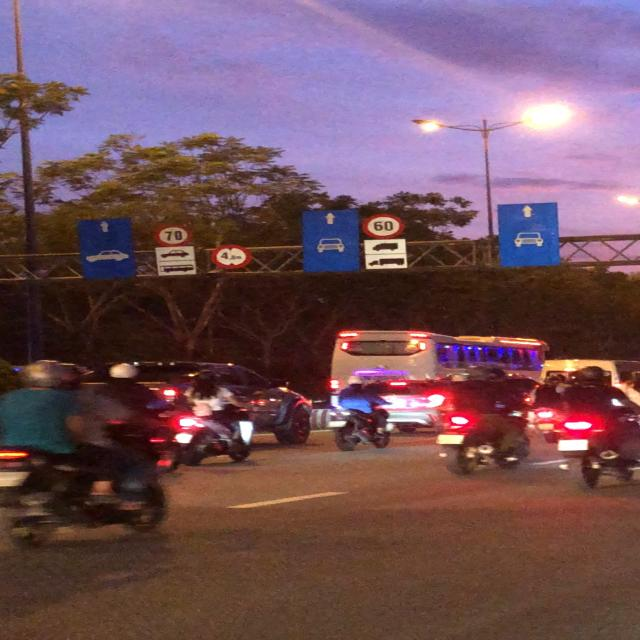Bien bao han che chieu cao: (212, 242, 254, 270)
Bien bao toc do toi da cho phep: (359, 211, 411, 240), (152, 222, 198, 248)
